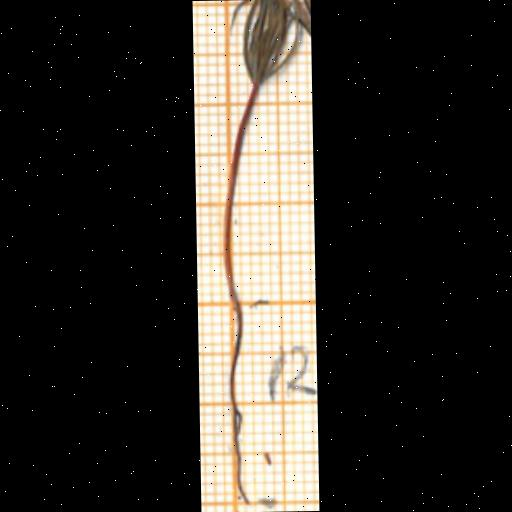flowerPinus: (244, 0, 299, 84)
rootPinus: (229, 303, 249, 505)
stemPinus: (222, 81, 260, 305)
